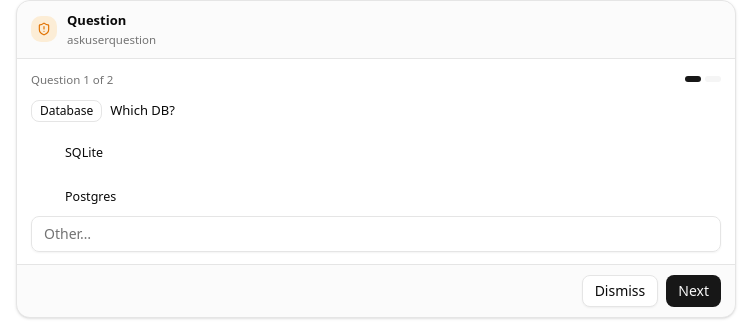
Test: question card shows Back only after the first question and Next before the final one
The width and height of the screenshot is (753, 336).
Expected: the button "Back" is not shown
Expected: the button "Submit" is not shown
Click the button "Next" at (694, 291), box [666,275,721,307]
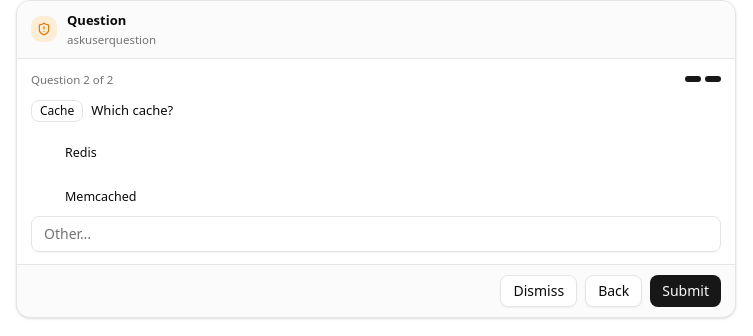
Result: the button "Back" is shown
Result: the button "Next" is gone
Result: the button "Submit" is shown at [650,275,721,307]
Click the button "Back" at (614, 291), box [585,275,642,307]
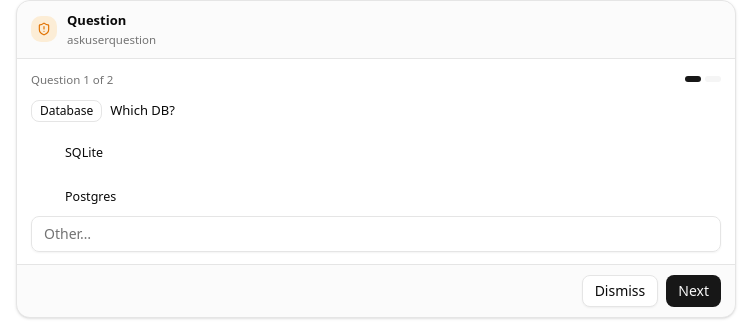
Result: the button "Back" is gone
Result: the button "Next" is shown at [666,275,721,307]
